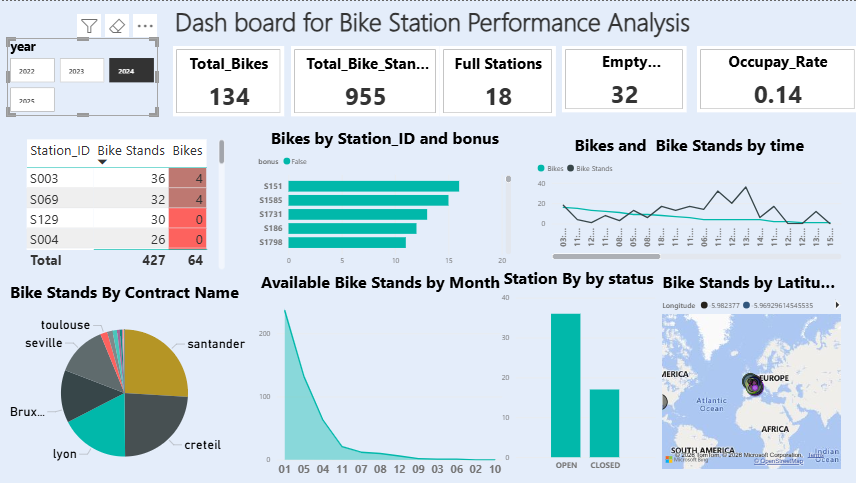

What the dashboard file says about the page in this screenshot:
{"tool":"powerbi","page":{"name":"dashboard","canvas":[1280,720],"ordinal":10},"visuals":[{"type":"textbox","box":[10.1,0,1270.1,80.6],"z":0},{"type":"advancedSlicerVisual","fields":{"Values":["date_dim.year"]},"box":[10.4,52.2,225.4,131.3],"z":1000},{"type":"cardVisual","fields":{"Data":["fact.Total_Bikes"]},"box":[257.8,67.7,165.6,105.1],"z":2000},{"type":"cardVisual","fields":{"Data":["fact.Total_Stands"]},"box":[434.9,67.7,221.8,105.1],"z":3000},{"type":"cardVisual","fields":{"Data":["fact.Full Stations"]},"box":[656.6,67.7,172.8,105.1],"z":4000},{"type":"cardVisual","fields":{"Data":["fact.Empty Stations"]},"box":[839.5,67.7,185.8,99.4],"z":5000},{"type":"cardVisual","fields":{"Data":["fact.Occupay_Rate"]},"box":[1039.7,67.7,240.5,99.4],"z":6000},{"type":"pieChart","title":"Bike Stands By Contract Name","fields":{"Category":["contract_dim.Contract Name"],"Y":["Sum(fact.Bike Stands)"]},"box":[0,417.6,371.5,302.4],"z":7000},{"type":"areaChart","fields":{"Category":["date_dim.Month"],"Y":["Sum(fact.Available Bike Stands)"]},"box":[380.2,403.2,374.4,316.8],"z":8000},{"type":"columnChart","fields":{"Category":["fact.status"],"Y":["CountNonNull(Station_dim.Station_ID)"]},"box":[743,397.4,240.5,313.9],"z":9000},{"type":"map","fields":{"Category":["Station_dim.Latitude"],"Size":["Sum(fact.Bike Stands)"],"Series":["Station_dim.Longitude"]},"box":[983.5,403.2,276.5,301],"z":10000},{"type":"lineChart","fields":{"Y":["Sum(fact.Available Bikes)","Sum(fact.Available Bike Stands)"],"Category":["date_dim.time"]},"box":[796.3,198.7,463.7,191.5],"z":11000},{"type":"barChart","fields":{"Category":["Station_dim.Station_ID"],"Series":["Station_dim.bonus"],"Y":["Sum(fact.Available Bikes)"]},"box":[380.2,188.6,387.4,217.4],"z":12000},{"type":"tableEx","fields":{"Values":["Station_dim.Station_ID","Sum(fact.Available Bike Stands)","Sum(fact.Available Bikes)"]},"box":[34.3,201.5,306,204.5],"z":13000}]}

Visuals, with their boxes in screenshot pixels (x1, y1, x2, y2), scaled from the page's 1280x720 canvas onto the 856x483 screenshot:
textbox: detection(7, 0, 855, 54)
advancedSlicerVisual - date_dim.year: detection(7, 35, 158, 123)
cardVisual - fact.Total_Bikes: detection(172, 45, 283, 116)
cardVisual - fact.Total_Stands: detection(291, 45, 439, 116)
cardVisual - fact.Full Stations: detection(439, 45, 555, 116)
cardVisual - fact.Empty Stations: detection(561, 45, 686, 112)
cardVisual - fact.Occupay_Rate: detection(695, 45, 855, 112)
"Bike Stands By Contract Name" pieChart: detection(0, 280, 248, 482)
areaChart - date_dim.Month x Sum(fact.Available Bike Stands): detection(254, 270, 505, 482)
columnChart - fact.status x CountNonNull(Station_dim.Station_ID): detection(497, 267, 658, 477)
map - Station_dim.Latitude x Sum(fact.Bike Stands): detection(658, 270, 843, 472)
lineChart - Sum(fact.Available Bikes) x Sum(fact.Available Bike Stands): detection(533, 133, 843, 262)
barChart - Station_dim.Station_ID x Station_dim.bonus: detection(254, 127, 513, 272)
tableEx - Station_dim.Station_ID x Sum(fact.Available Bike Stands): detection(23, 135, 228, 272)
